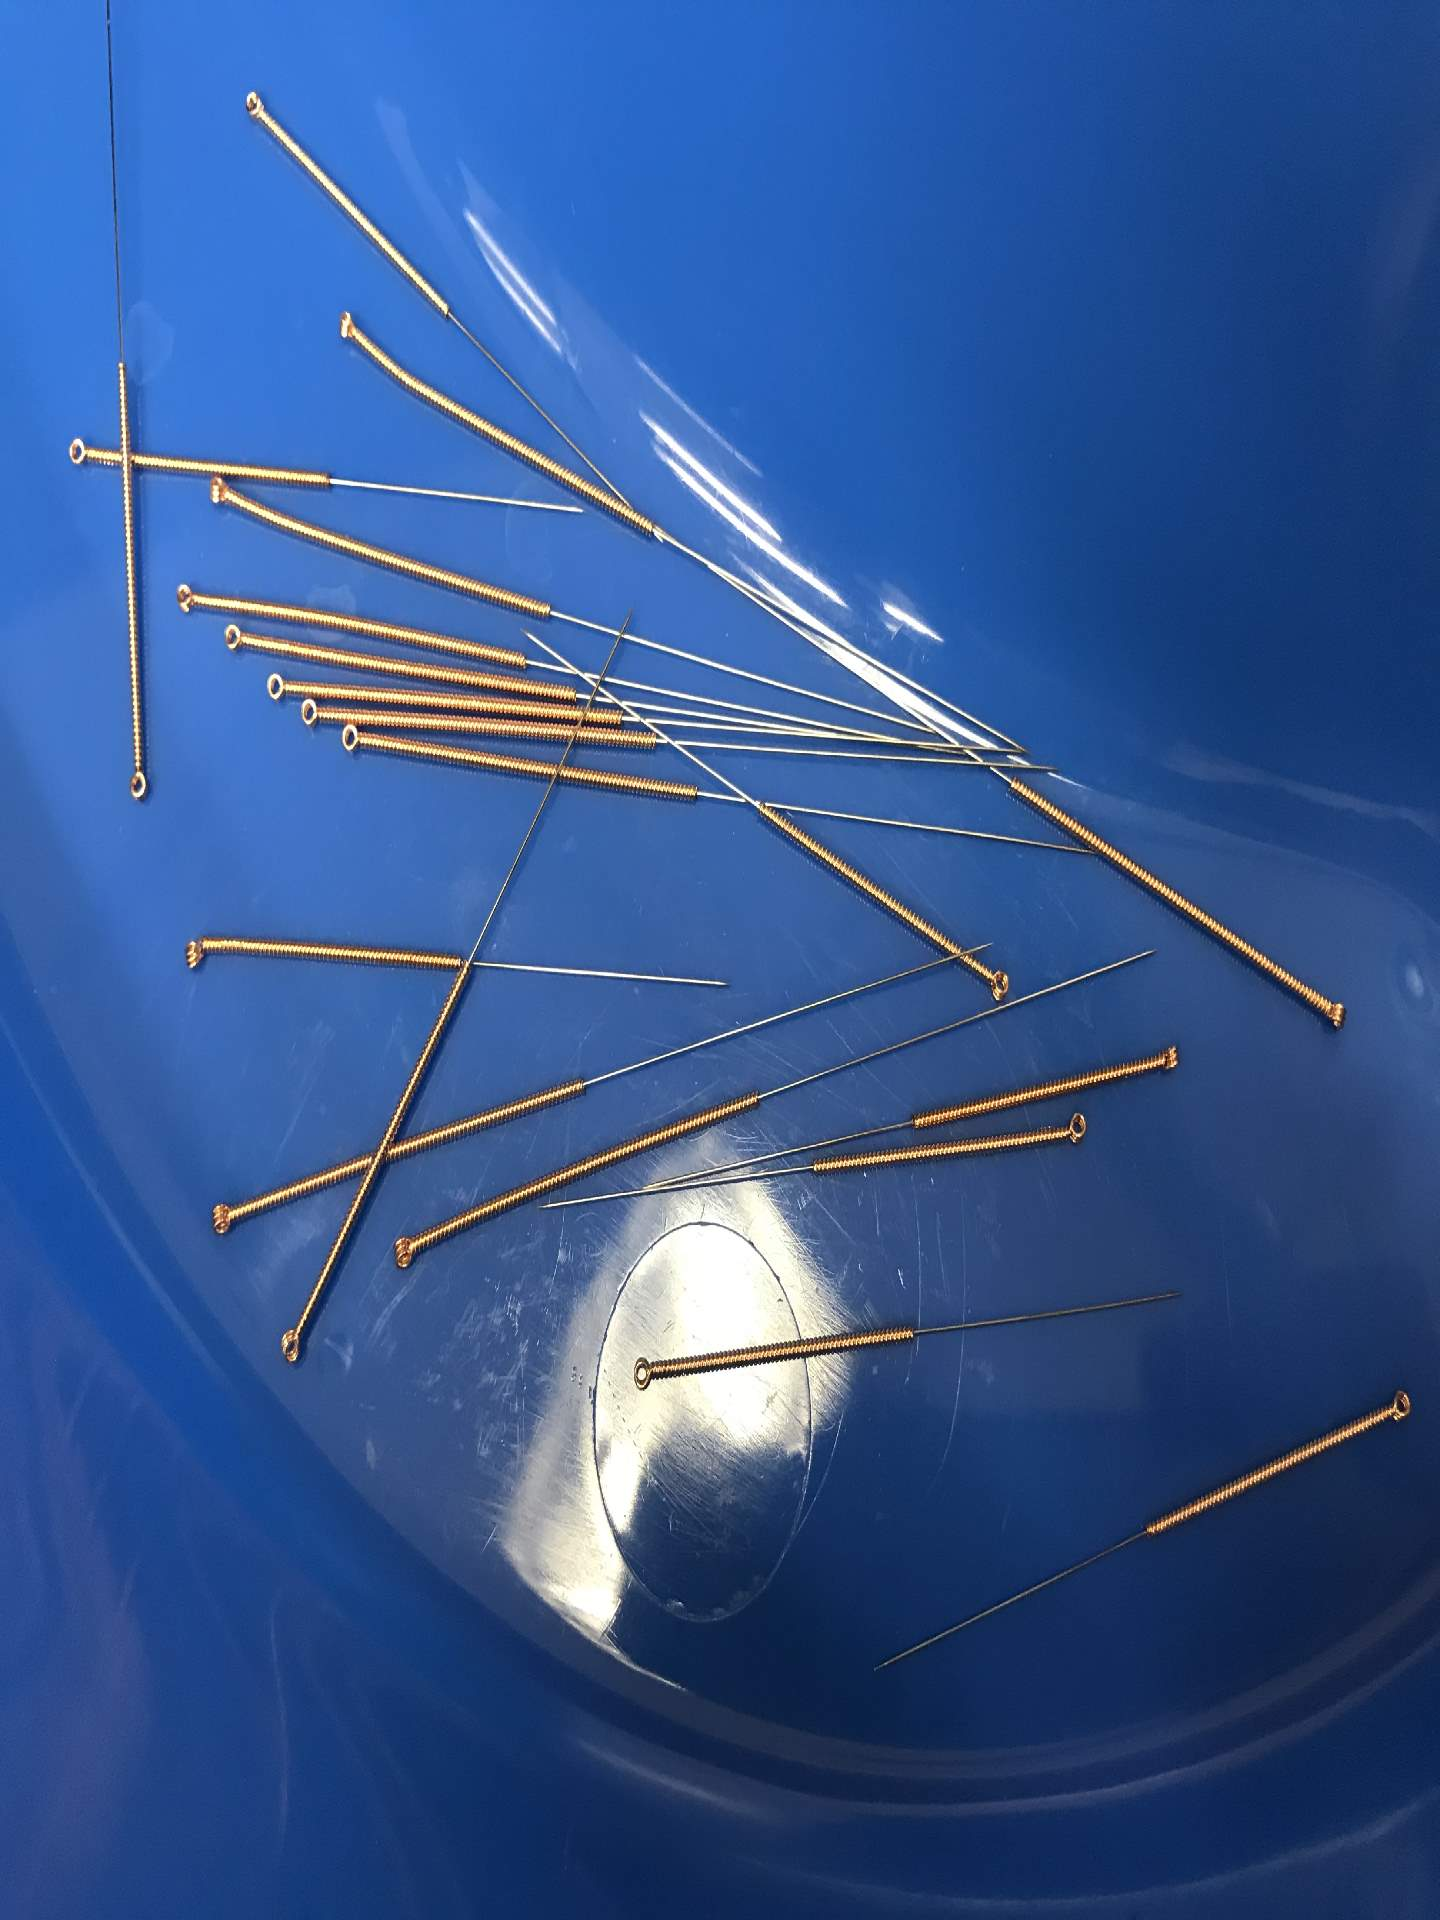needle: (269, 1315, 312, 1376), (171, 928, 219, 981), (197, 1193, 247, 1243), (1373, 1380, 1420, 1433), (380, 1226, 427, 1277), (1311, 986, 1355, 1040), (116, 750, 154, 812), (165, 571, 209, 623), (976, 958, 1019, 1010), (59, 429, 101, 482), (334, 718, 380, 766), (622, 1347, 664, 1398), (1051, 1105, 1097, 1152), (1145, 1033, 1187, 1082), (198, 475, 244, 517), (327, 299, 366, 348), (290, 694, 334, 736), (256, 667, 299, 709), (213, 617, 256, 661), (234, 82, 271, 129)
